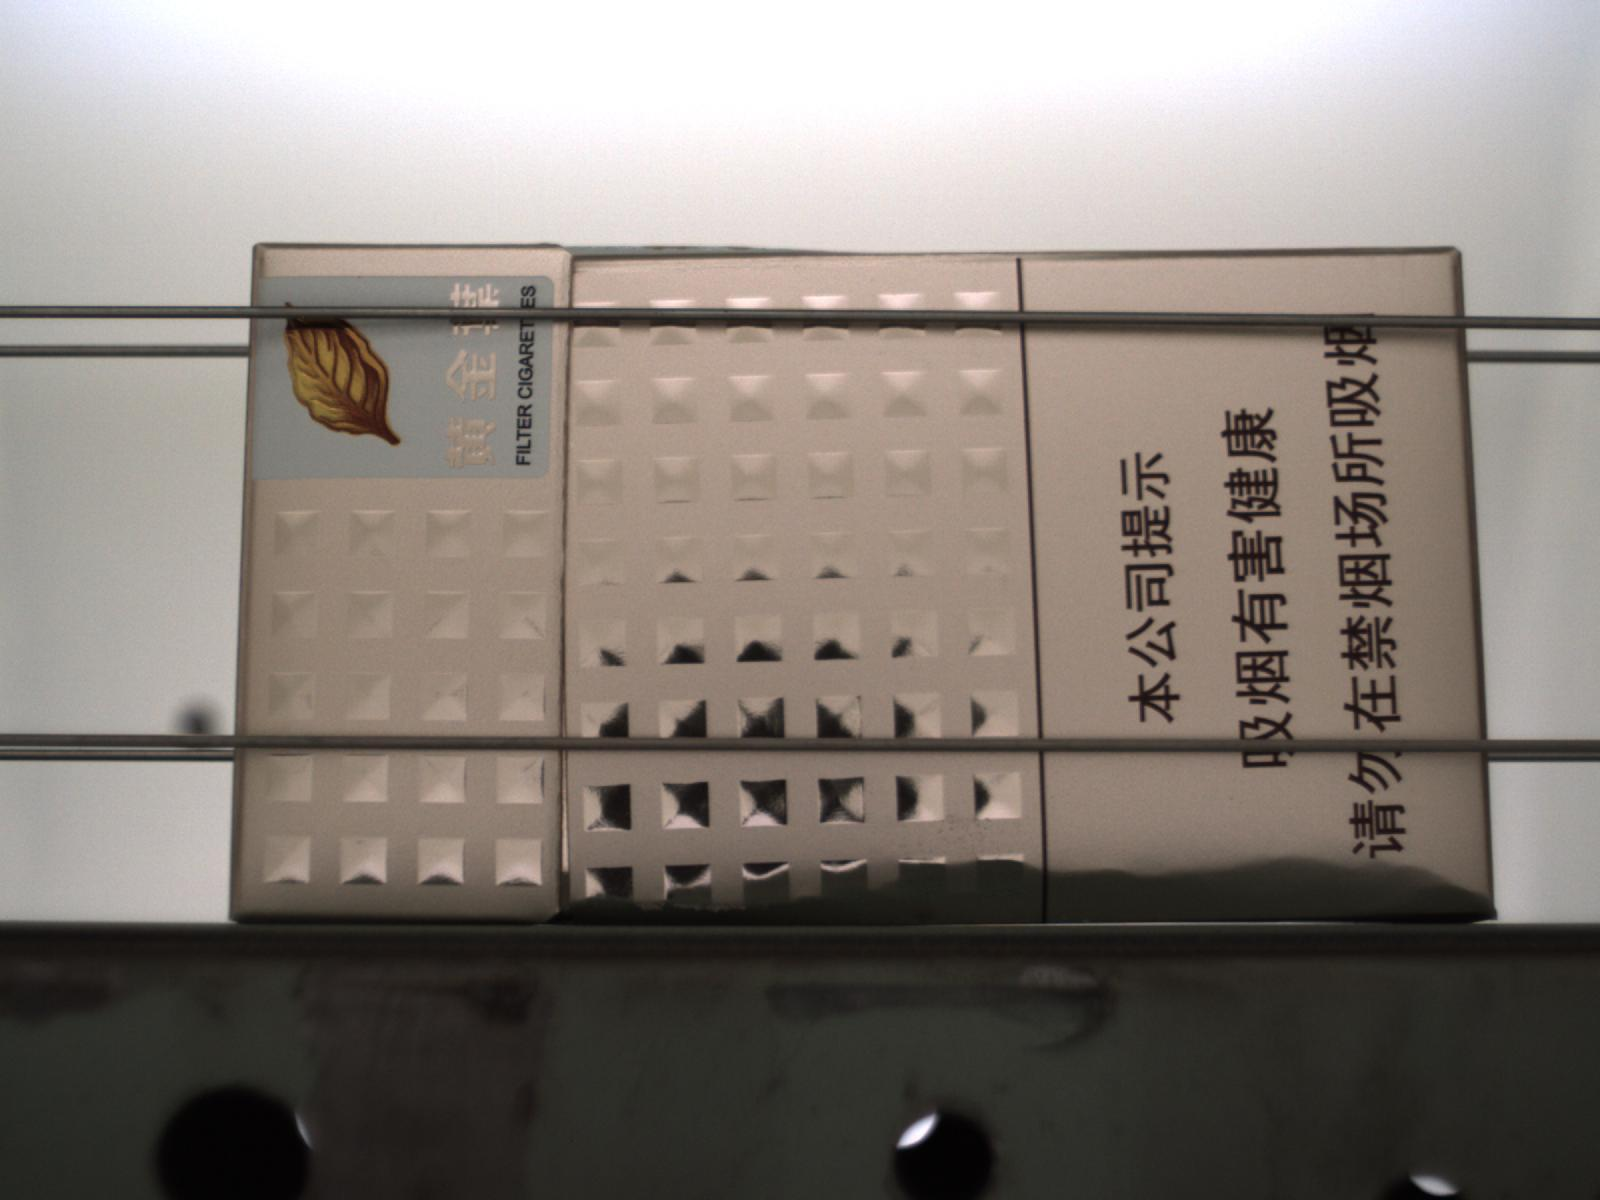boxDamage_slight: (553, 853, 1495, 925)
skewedOpen: (549, 649, 580, 913)
skewed_upper_0: (568, 242, 839, 281)
